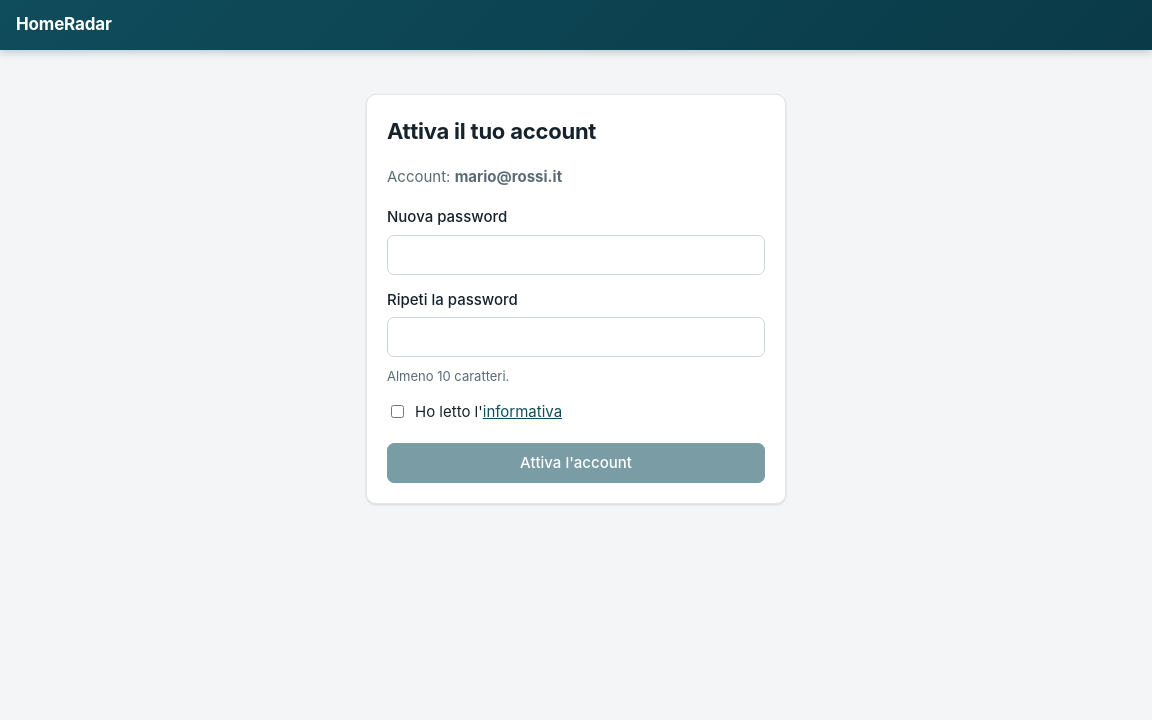
attivazione › informativa obbligatoria
Check: the text "mario@rossi.it" is shown, box [455, 166, 562, 186]
Type "password-lunga" into the password field labelled "Nuova password".
click(576, 254); type("password-lunga")  # box [387, 234, 765, 274]
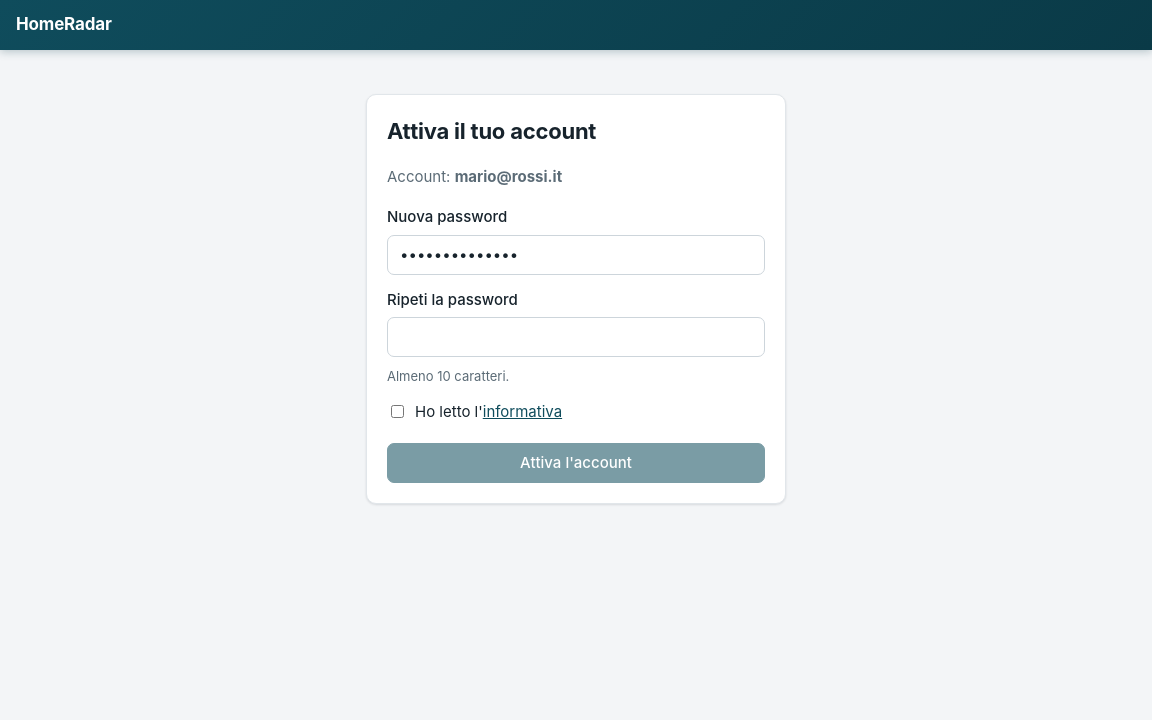
Type "password-lunga" into the password field labelled "Ripeti la password".
click(576, 337); type("password-lunga")  # box [387, 317, 765, 357]
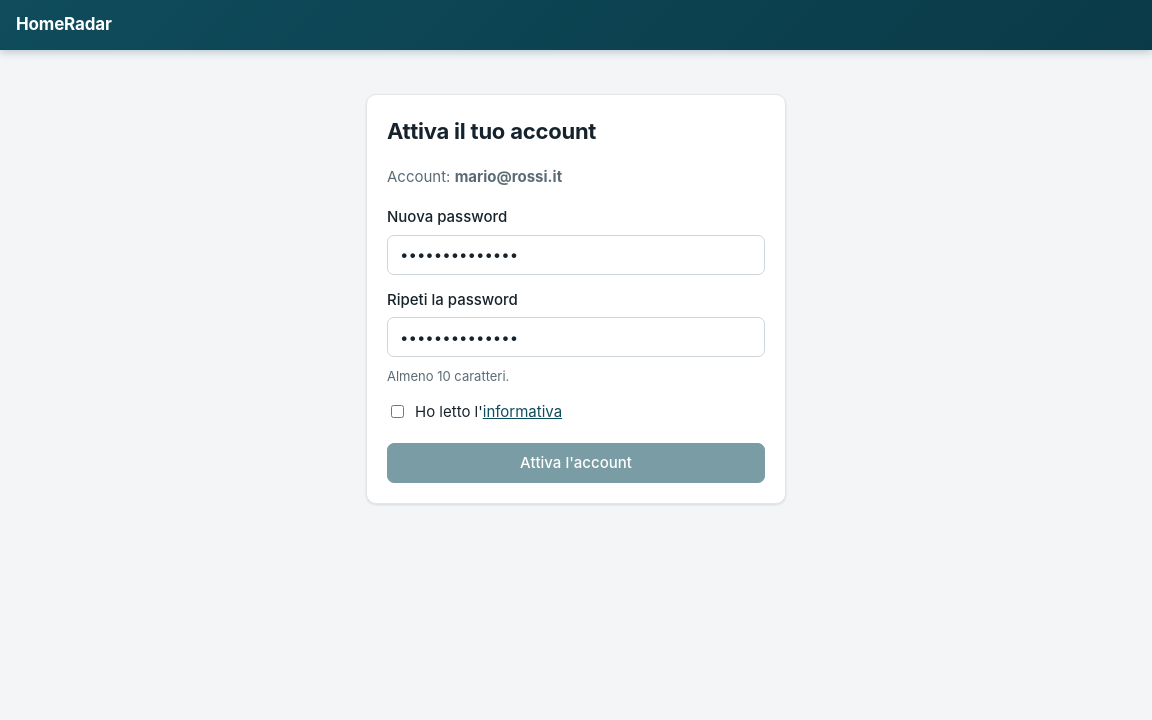
Check: the button "Attiva l'account" is disabled, box [387, 443, 765, 483]
Click the checkbox named "Ho letto l'informativa".
click(398, 411)  # box [391, 404, 404, 418]
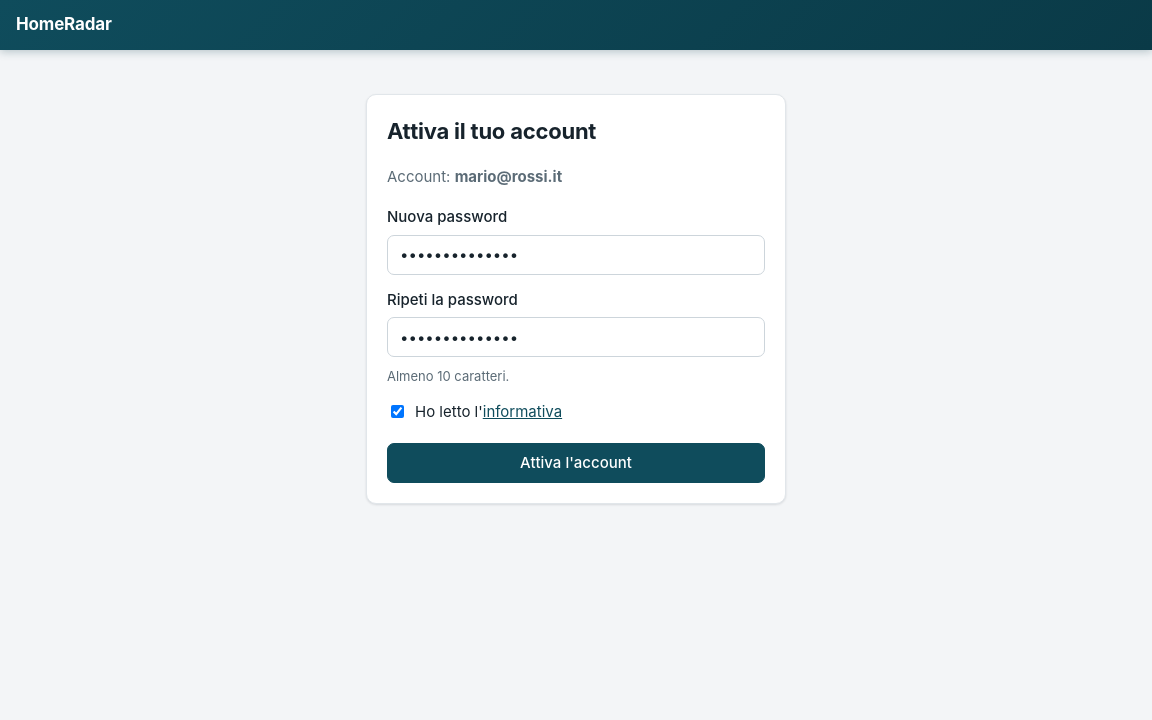
Check: the button "Attiva l'account" is enabled, box [387, 443, 765, 483]
